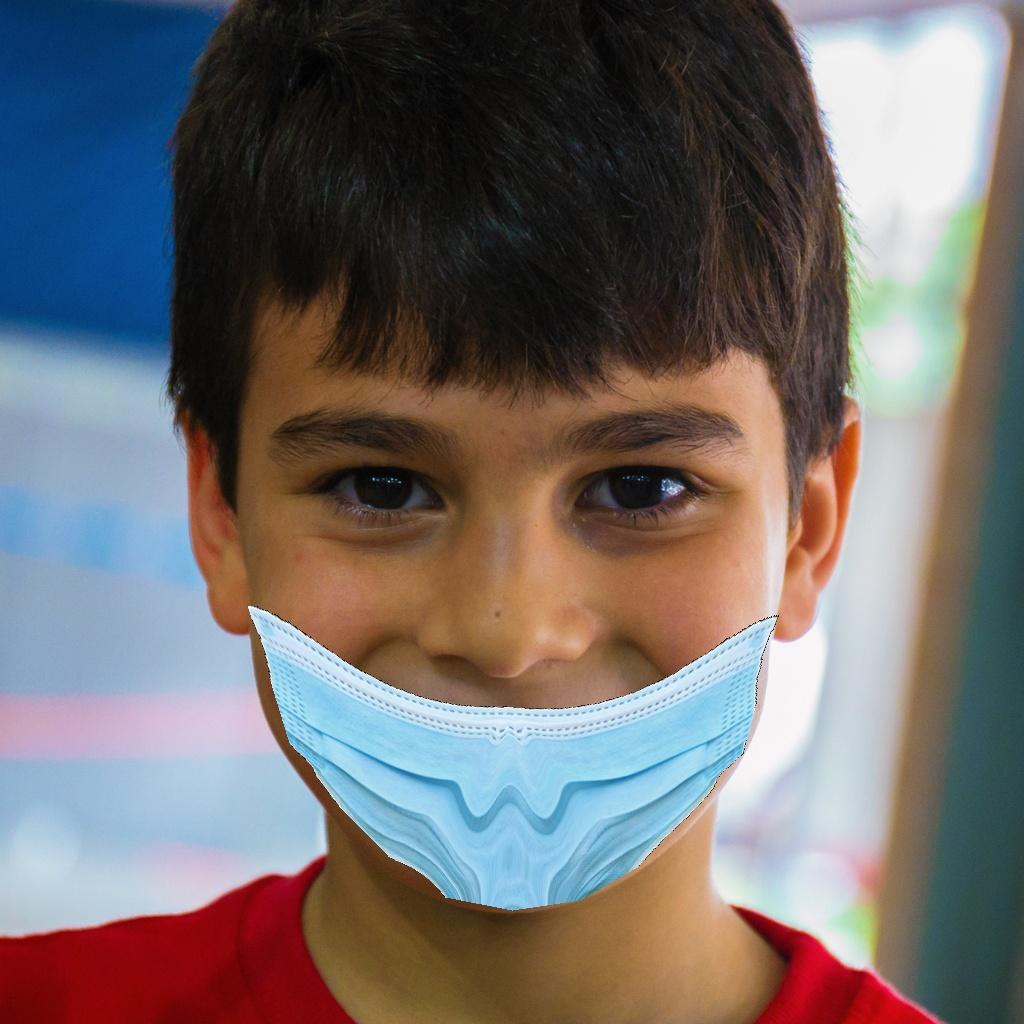Máscara Incorreta: (233, 302, 799, 913)
